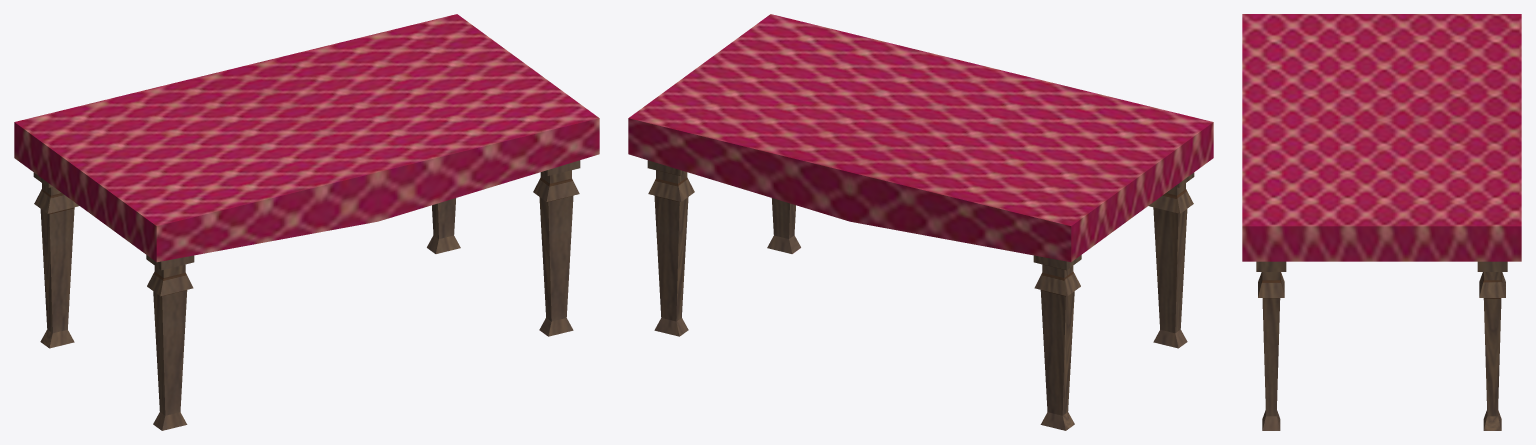
Rendered from TableCuisine.fbx.
3 views of the same model, side by side, from view 1: azimuth 30°, elevation 25°; view 2: azimuth 150°, elevation 25°; view 3: azimuth 270°, elevation 25° (orthographic).
Visible parts, largest first — view 1: Cube; view 2: Cube; view 3: Cube.
Boxes of the visible parts, left/top/right/bottom form: Cube: left=14, top=14, right=599, bottom=430; Cube: left=628, top=14, right=1213, bottom=430; Cube: left=1242, top=14, right=1521, bottom=430.
Bounding box in the file's own units: 1049 × 489 × 584.
Materials: 1 (1 with a texture image).
